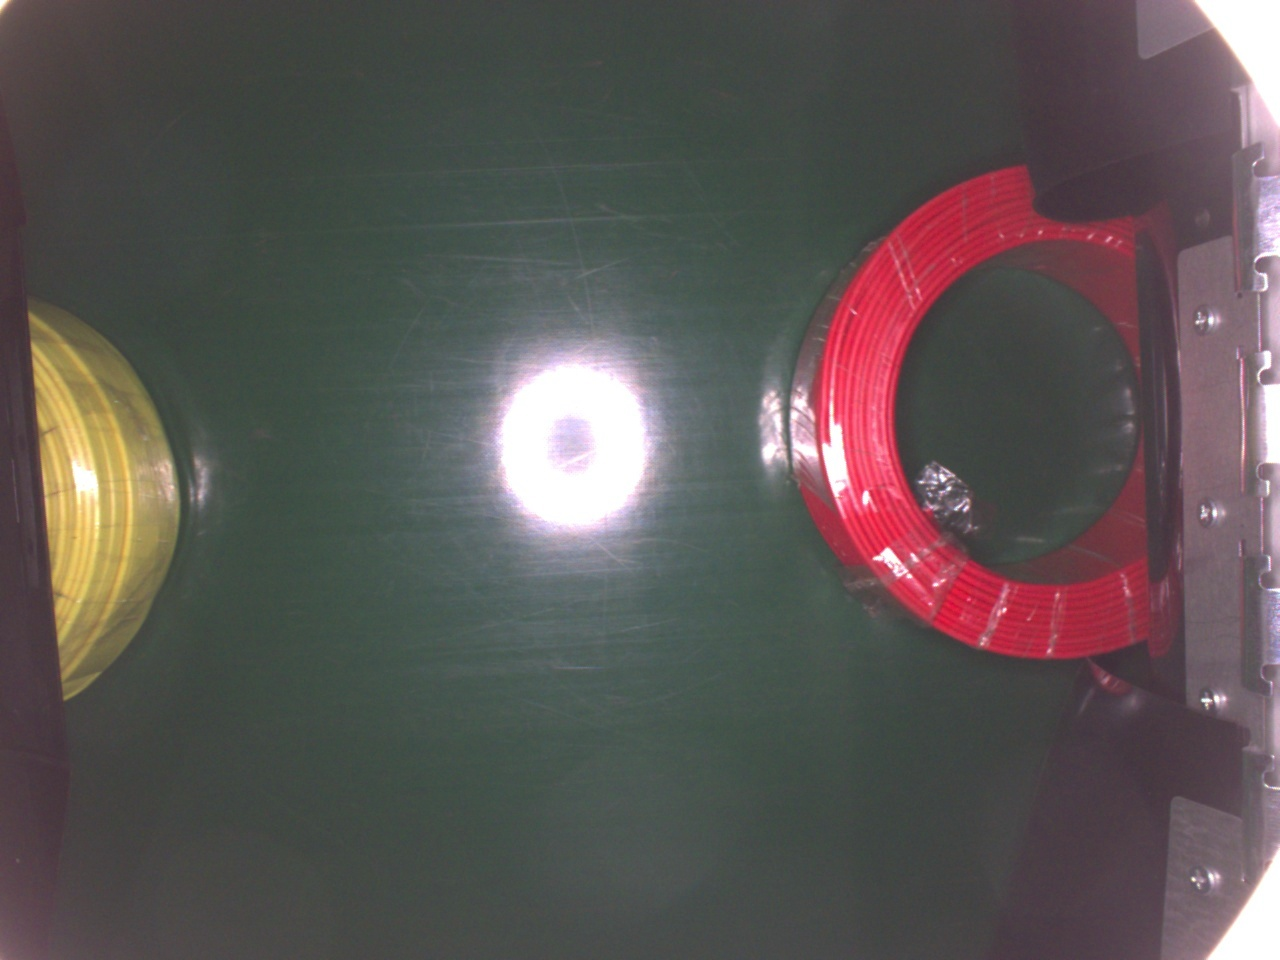red: (791, 165, 1154, 662)
yellow: (26, 302, 181, 729)
